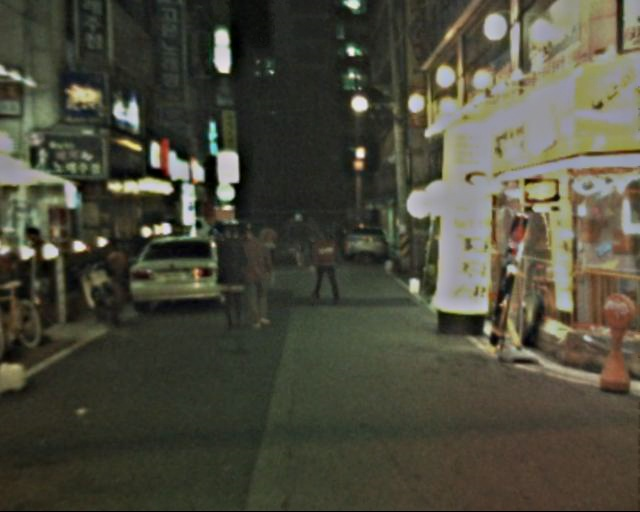person: (236, 226, 279, 339), (216, 225, 256, 343), (313, 225, 348, 311), (285, 209, 312, 275), (261, 223, 281, 270)
